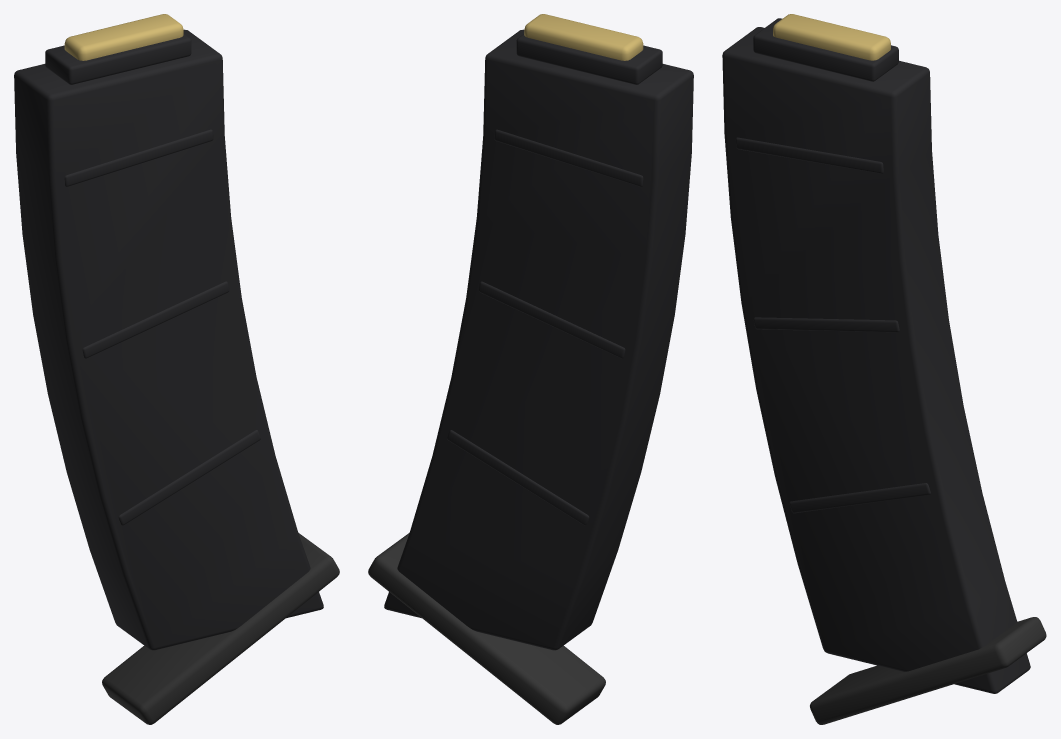
Rendered from SM_FX_MagRifle.glb.
The picture shows the model from 3 angles, left to right: view 1: azimuth 30°, elevation 25°; view 2: azimuth 150°, elevation 25°; view 3: azimuth 330°, elevation 25°; orthographic projection.
Visible parts, largest first — view 1: SM_FX_MagRifle; view 2: SM_FX_MagRifle; view 3: SM_FX_MagRifle.
Part boxes in pixels (x1,y1,x2,y2): SM_FX_MagRifle: (14, 14, 339, 724); SM_FX_MagRifle: (368, 14, 693, 724); SM_FX_MagRifle: (722, 14, 1046, 724).
Bounding box in the file's own units: 0.0994 × 0.2234 × 0.0253.
